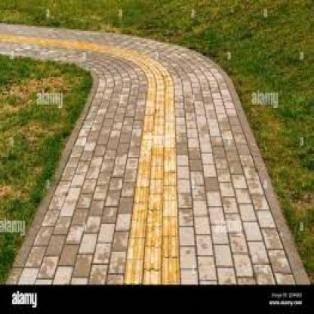Podoctatil: (2, 20, 206, 286)
